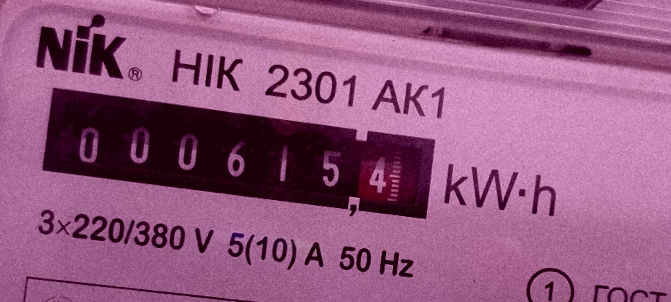0: (171, 128, 202, 174), (72, 121, 103, 165), (124, 122, 153, 165)
1: (273, 141, 293, 184)
4: (365, 152, 390, 195)
5: (315, 145, 344, 190)
6: (220, 135, 250, 179)
screen: (24, 67, 451, 242)
